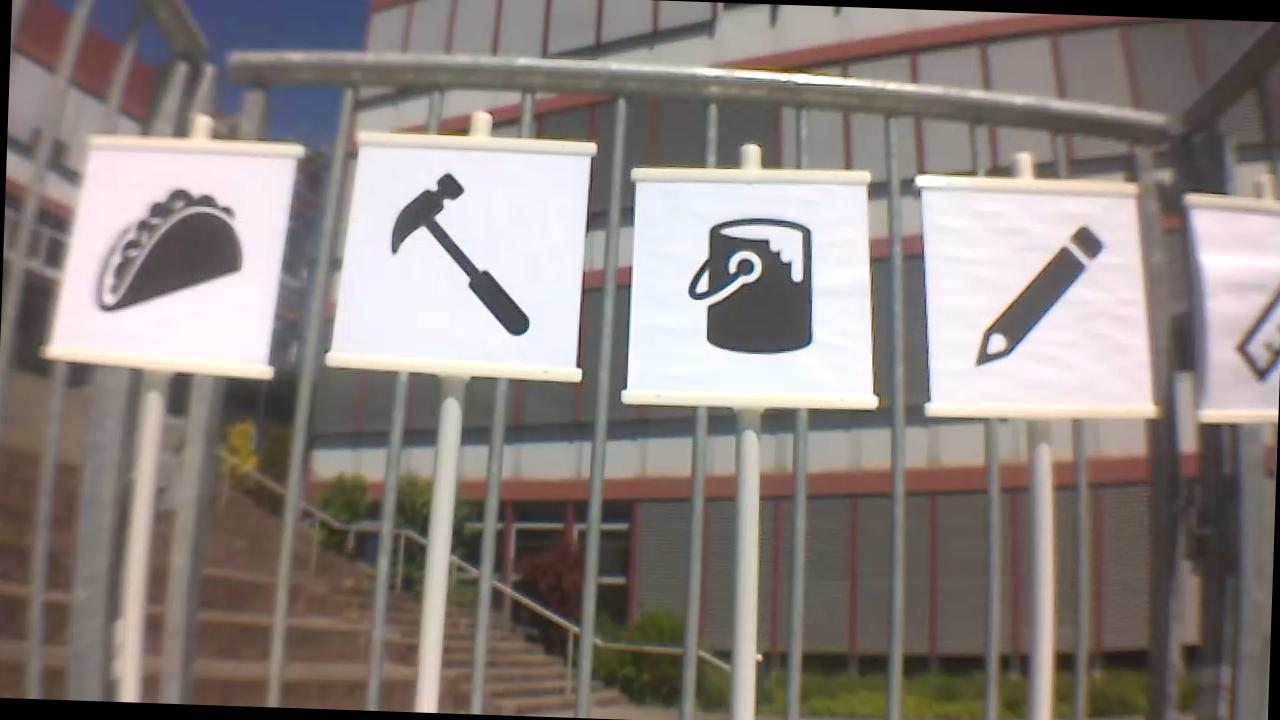bucket: (672, 210, 815, 358)
hammer: (374, 166, 540, 338)
pencil: (966, 213, 1111, 377)
ruler: (1231, 199, 1280, 375)
taco: (87, 183, 266, 327)
